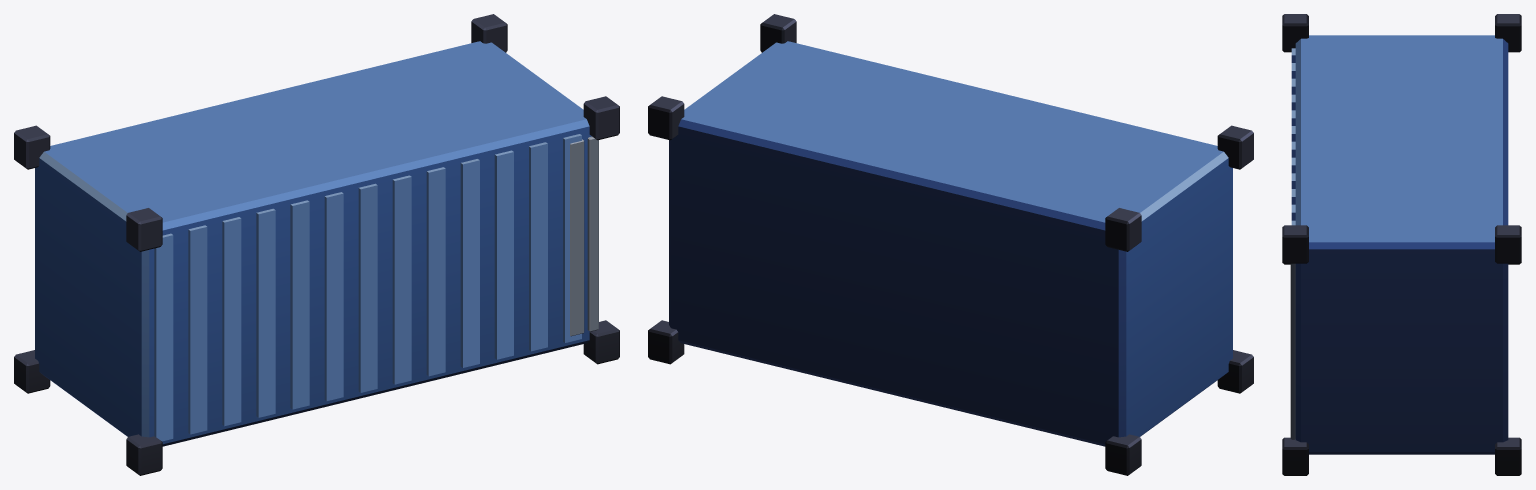
Rendered from container.glb.
3 renders of one model, left to right at view 1: azimuth 30°, elevation 25°; view 2: azimuth 150°, elevation 25°; view 3: azimuth 270°, elevation 25°, orthographic. The views are drawn at different scales.
Visible parts, largest first — view 1: container; view 2: container; view 3: container.
Boxes of the visible parts, x1,y1,x2,y2 form: container: [14, 14, 619, 475]; container: [648, 14, 1253, 475]; container: [1282, 14, 1521, 475].
Size of the model in its own units: 1.98 by 1 by 0.9.
